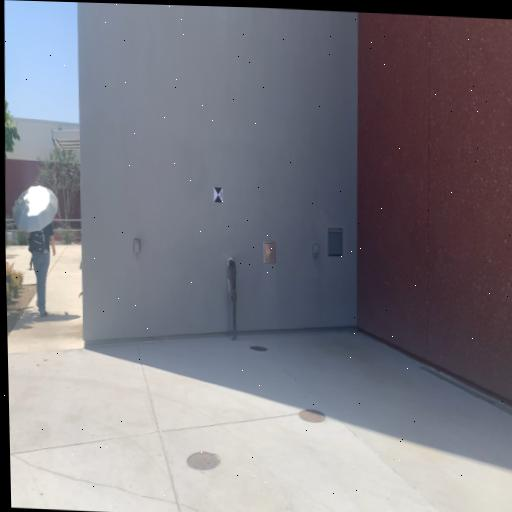target3: (214, 186, 223, 204)
